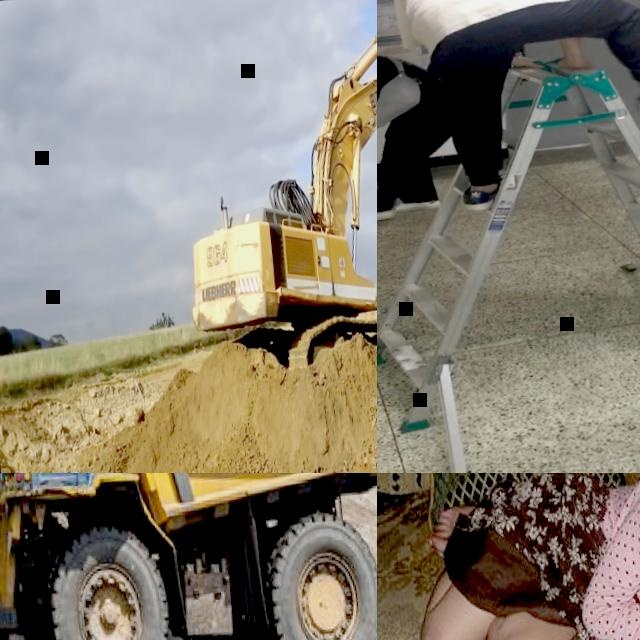NO-Safety Vest: (601, 473, 640, 631), (391, 0, 561, 28), (377, 51, 432, 129)
Person: (382, 0, 640, 218), (402, 473, 640, 640), (377, 22, 460, 227)
machinery: (163, 10, 377, 385), (0, 473, 377, 640)
